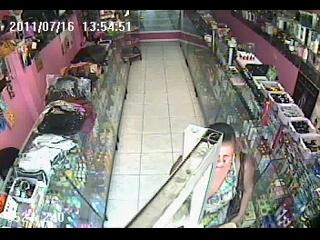Normal: (198, 122, 258, 227)
